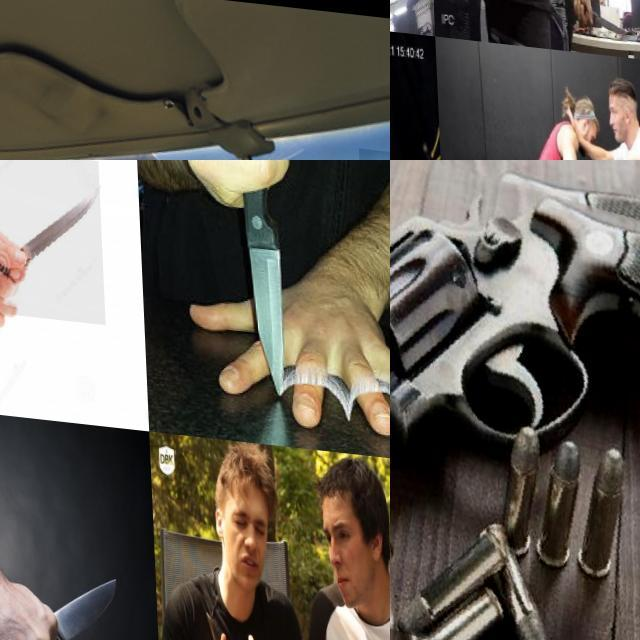-: (0, 160, 103, 318), (229, 160, 288, 386), (8, 554, 117, 640), (390, 26, 429, 160), (390, 0, 419, 98), (197, 596, 234, 640), (588, 0, 625, 23)
gun-knife-thesis - v11 Yolov5 augmented: (390, 160, 640, 640)
